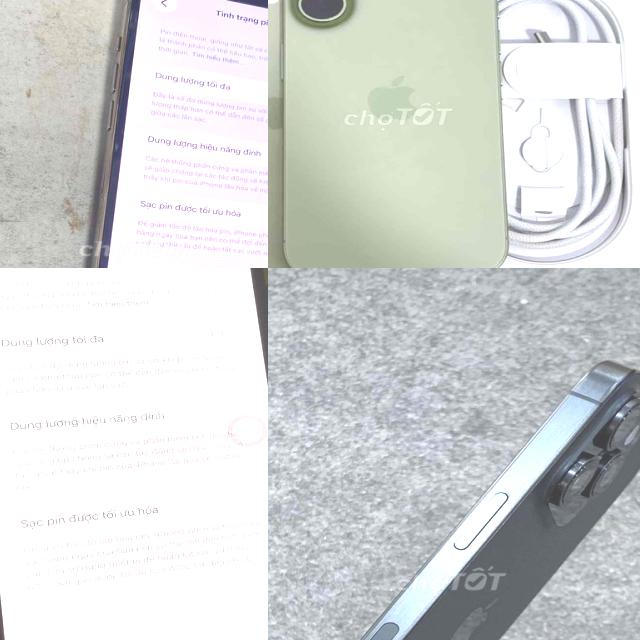gen_12_13: (0, 268, 268, 640), (67, 0, 268, 268)
gen_15: (268, 351, 640, 640)
gen_17: (284, 0, 519, 268)
scratch: (439, 595, 505, 640)
